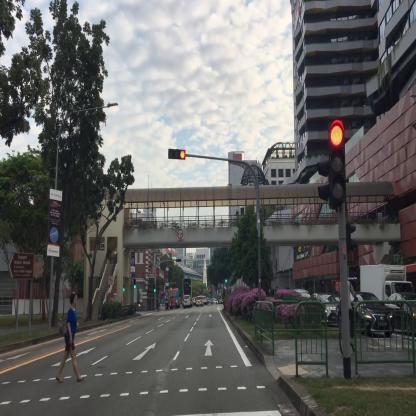red_traffic_light: (327, 123, 347, 201), (167, 149, 185, 160)
